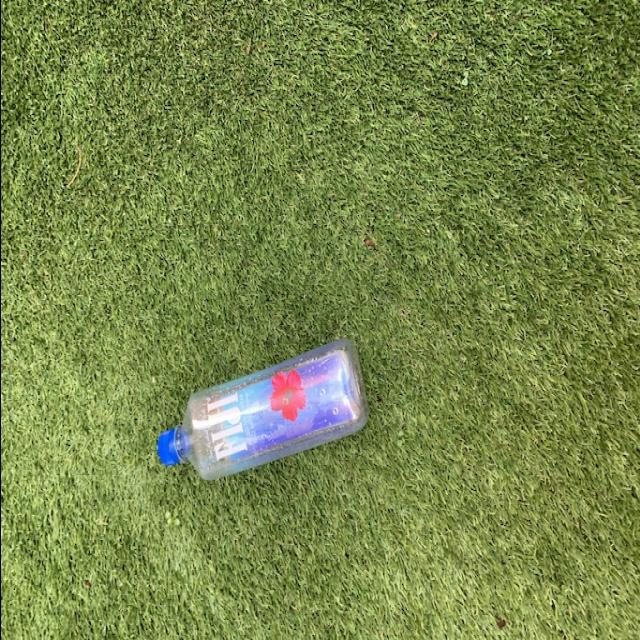litter: (148, 331, 366, 490)
